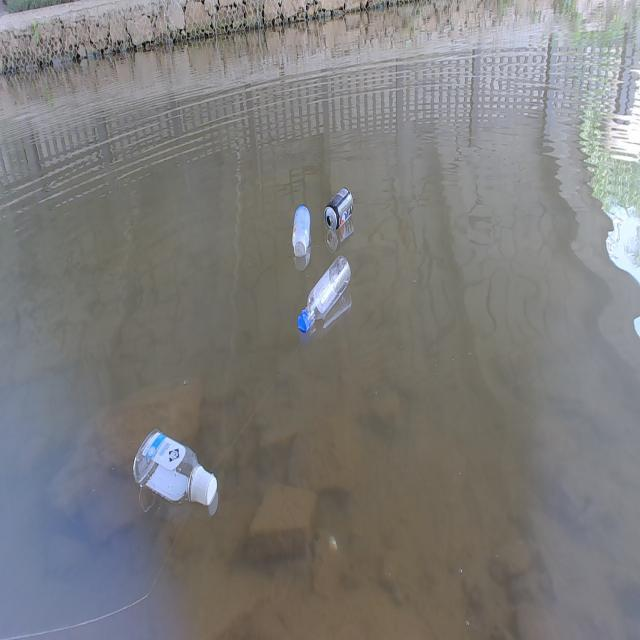bottle: (112, 398, 240, 530), (291, 244, 355, 341), (284, 202, 314, 254)
